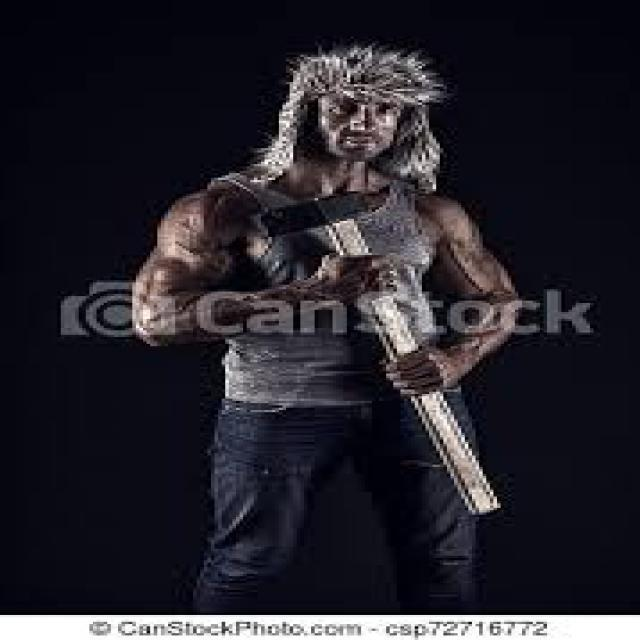hammer: (240, 173, 518, 522)
